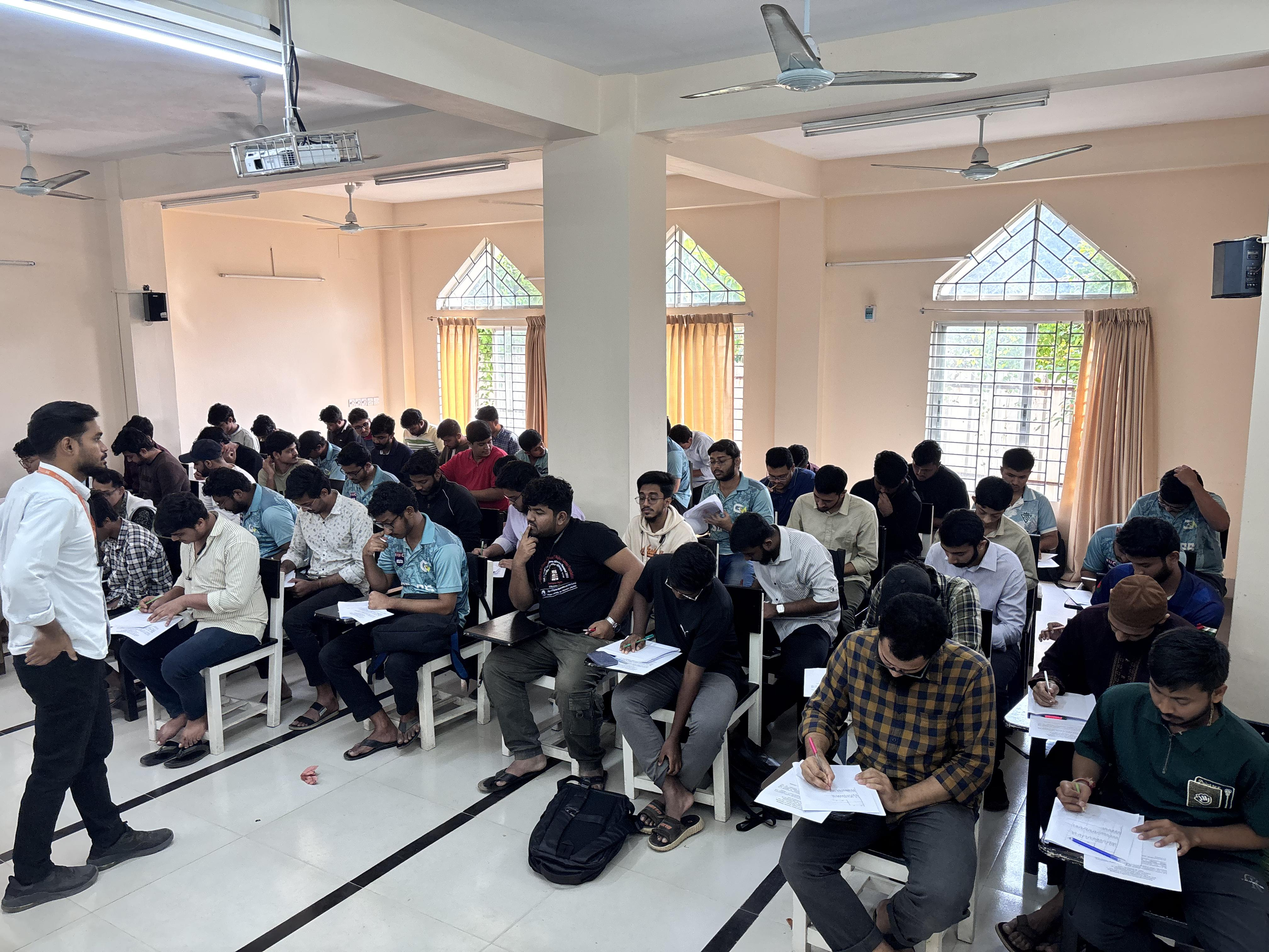copying: (497, 476, 614, 709), (450, 420, 507, 489), (177, 437, 227, 478), (265, 427, 302, 476), (346, 406, 372, 443)
invigilator: (8, 401, 152, 910)
no_cheating: (779, 589, 981, 952), (1059, 629, 1269, 952), (611, 545, 738, 798), (145, 491, 267, 730), (278, 465, 378, 670), (350, 483, 448, 681), (1036, 574, 1166, 685), (725, 508, 834, 623), (931, 511, 1012, 621), (1110, 513, 1190, 593), (199, 464, 281, 534), (794, 465, 865, 537), (1154, 461, 1214, 545), (626, 467, 680, 554), (695, 437, 754, 514), (966, 476, 1019, 546), (866, 447, 916, 520), (107, 424, 180, 473), (759, 438, 805, 504), (909, 438, 957, 500), (398, 445, 447, 504), (335, 441, 380, 498), (999, 442, 1038, 501), (296, 428, 337, 475), (497, 460, 528, 517), (398, 407, 431, 449), (433, 415, 464, 458), (367, 414, 398, 457), (11, 436, 41, 477), (318, 404, 346, 443)
side_talking: (519, 427, 560, 466)
